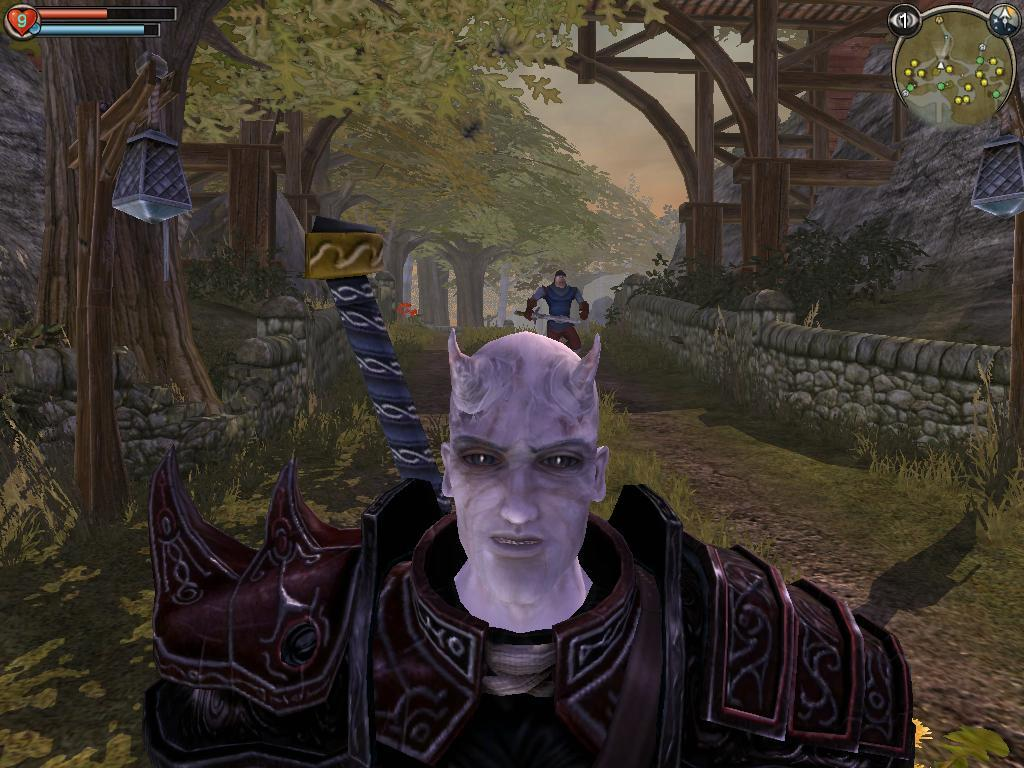Tree: (0, 0, 682, 416)
